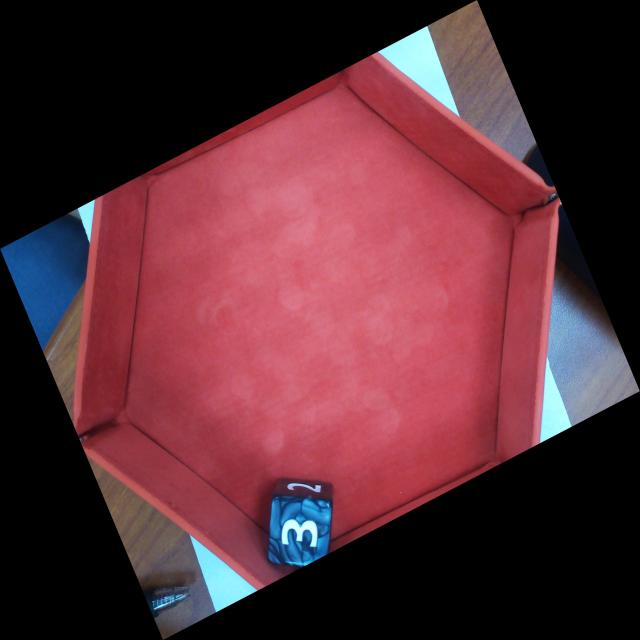dice: (268, 496, 333, 568)
